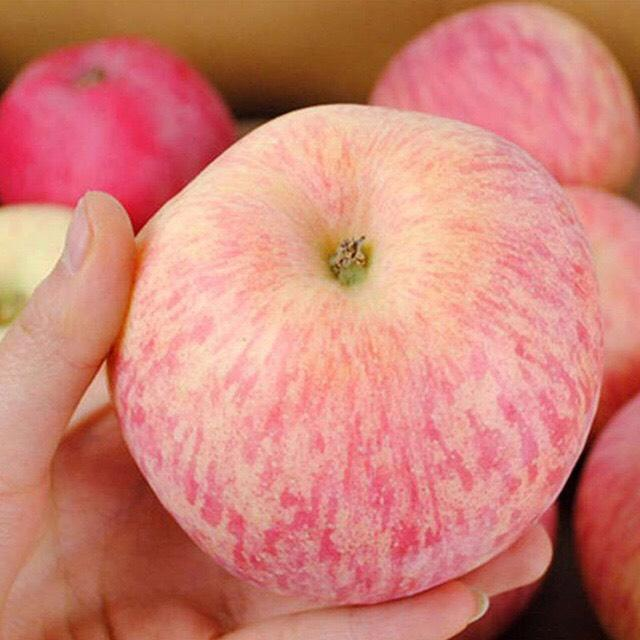apple: (104, 102, 604, 608), (365, 4, 634, 199), (1, 33, 238, 229)
